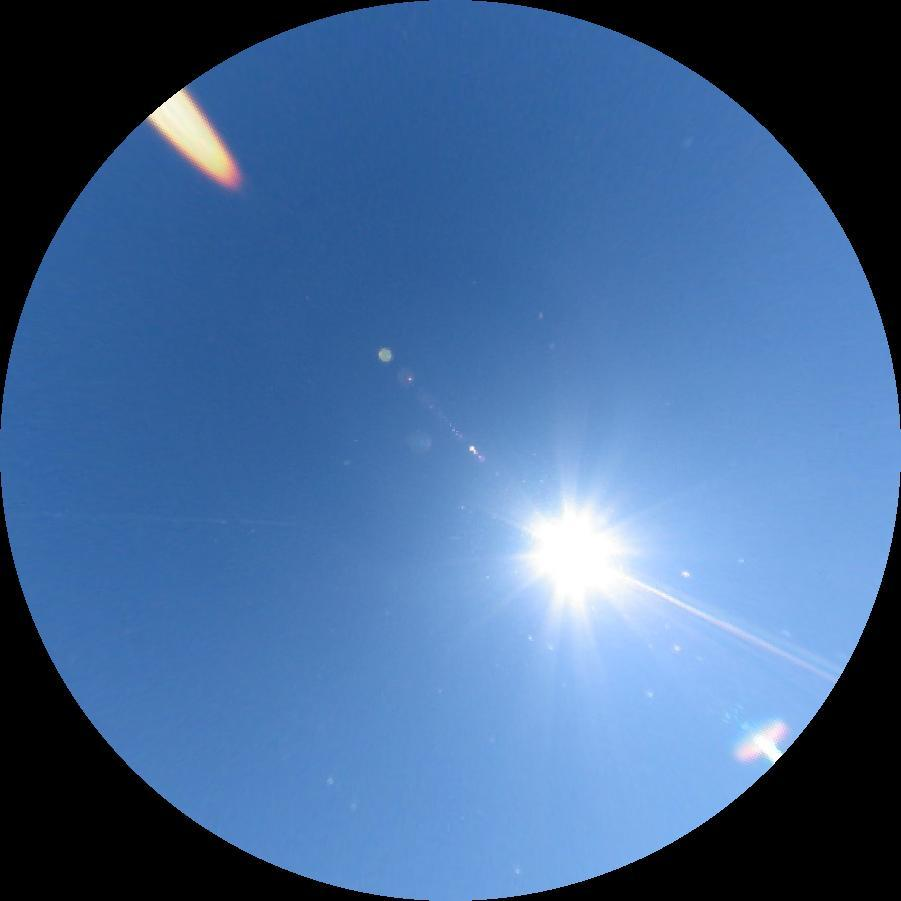parasite: (626, 570, 839, 685)
sun: (512, 489, 637, 617)
